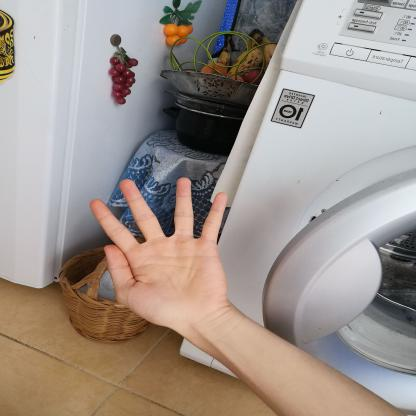SHEEN: (80, 168, 238, 333)
